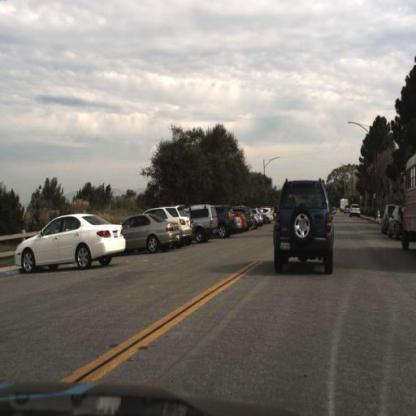car: (273, 173, 343, 282), (16, 214, 132, 270), (123, 212, 180, 248), (190, 201, 219, 241), (165, 205, 195, 242), (174, 205, 195, 250), (387, 203, 404, 243), (219, 204, 237, 238), (379, 200, 392, 238), (350, 202, 365, 223)
truck: (401, 151, 416, 252)
